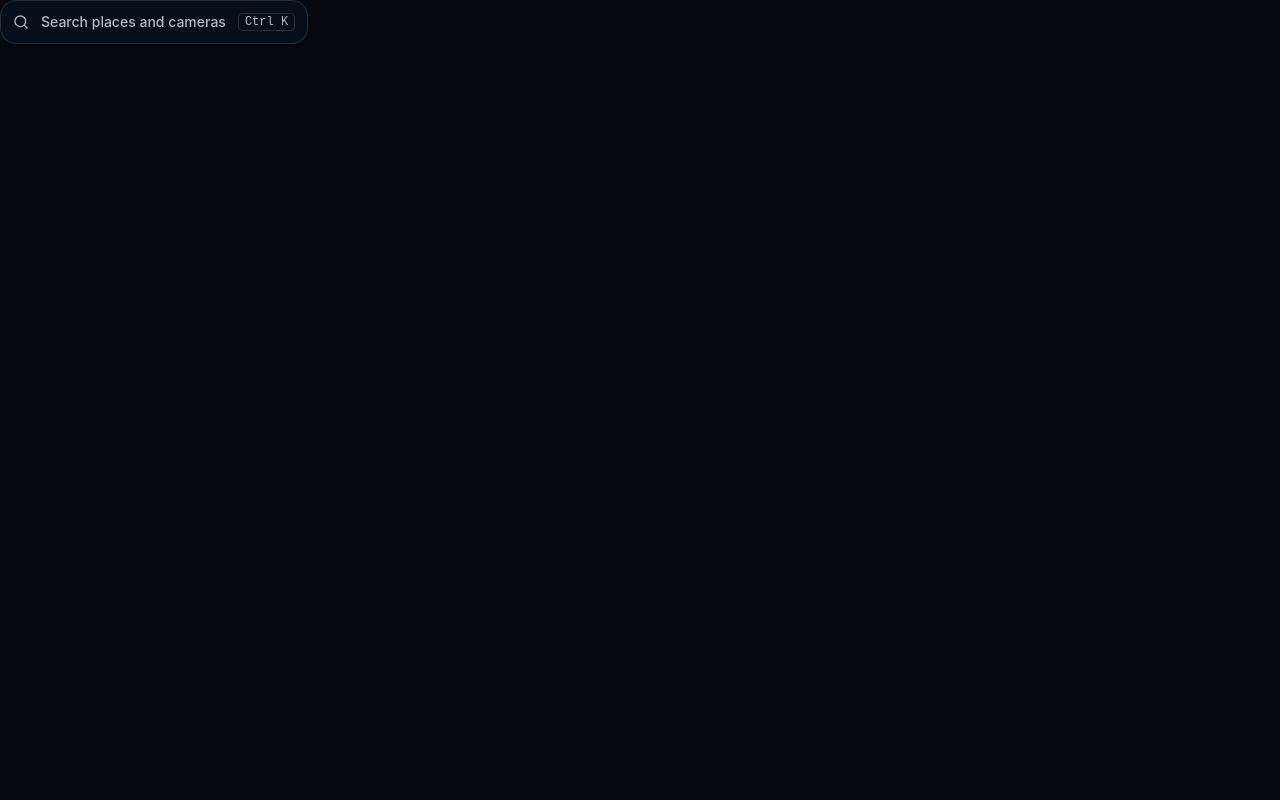
Test: SearchDialog › does not search for a single character
The width and height of the screenshot is (1280, 800).
Type keys "{Control>}k{/Control}"
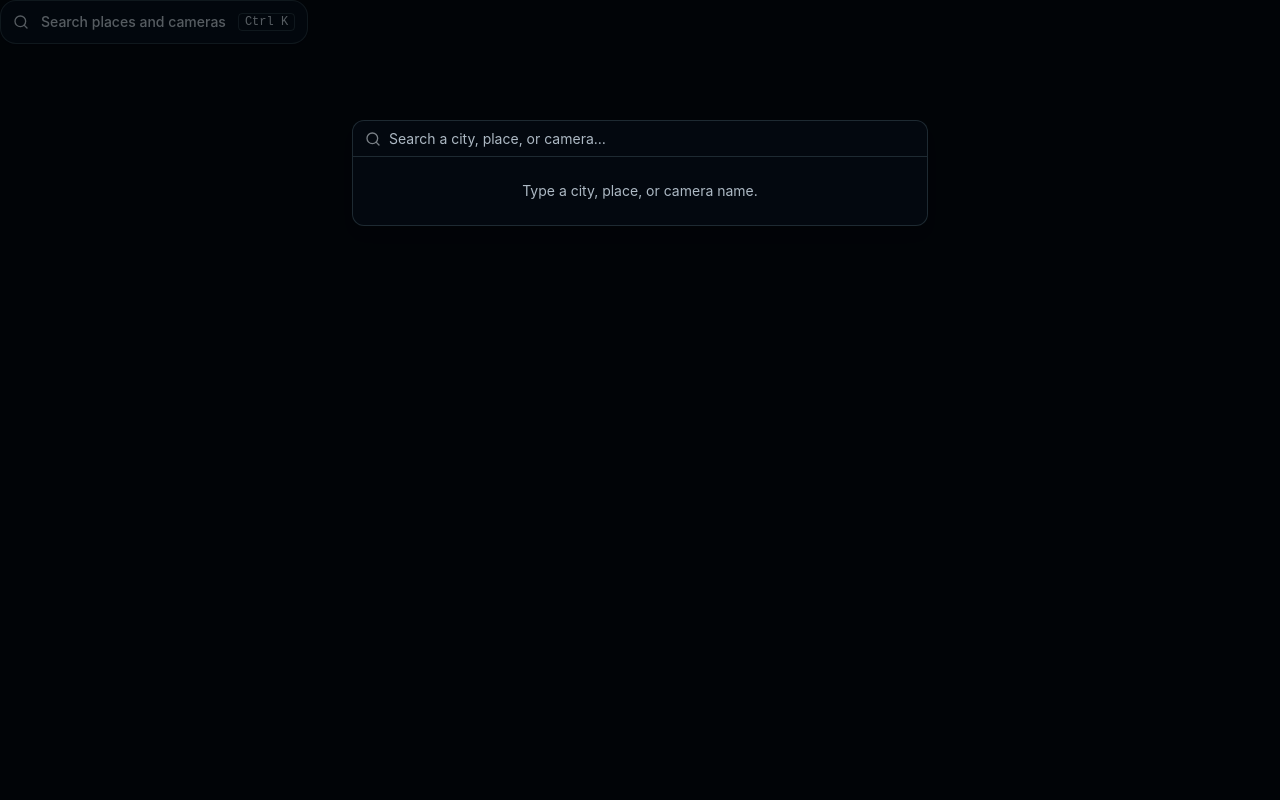
Type "t" into the dropdown.
click(652, 138); type("t")  # box [389,118,915,158]
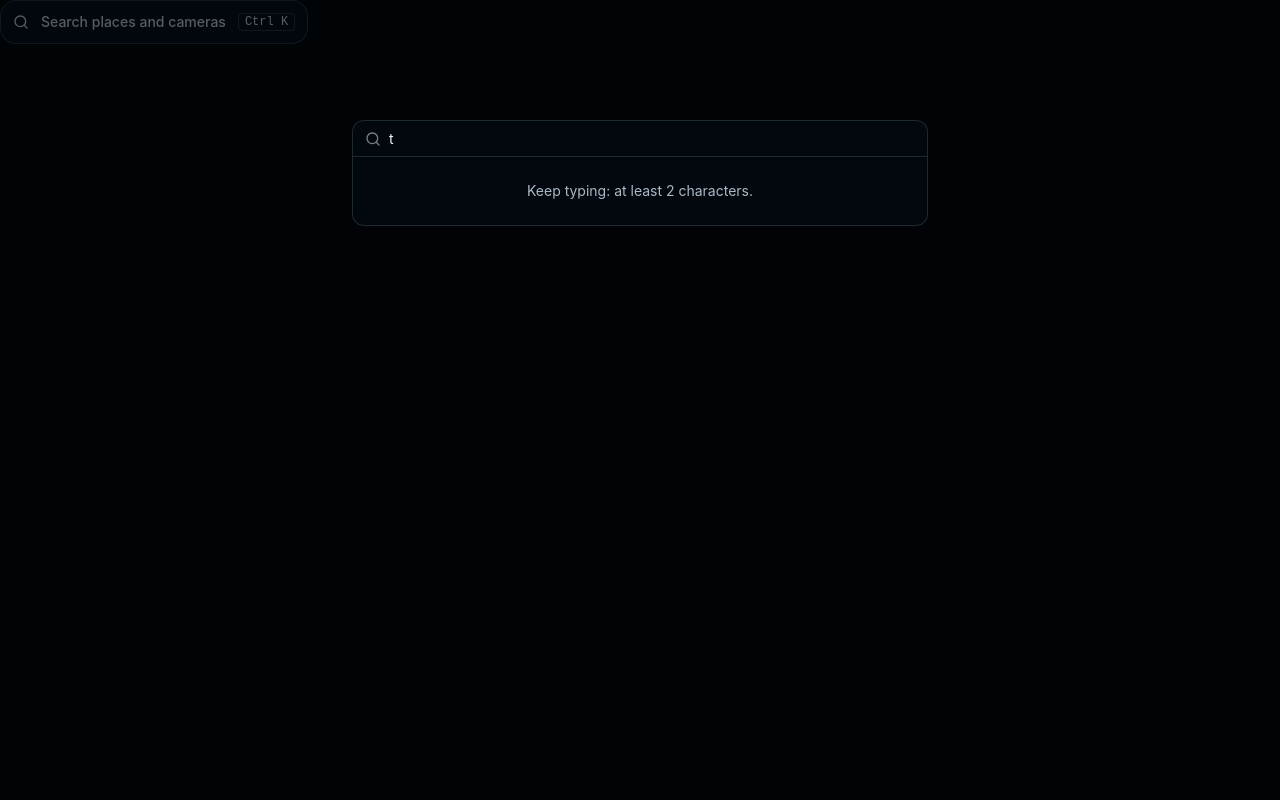
expect the message shows "Keep typing": met, box [527,182,753,199]
